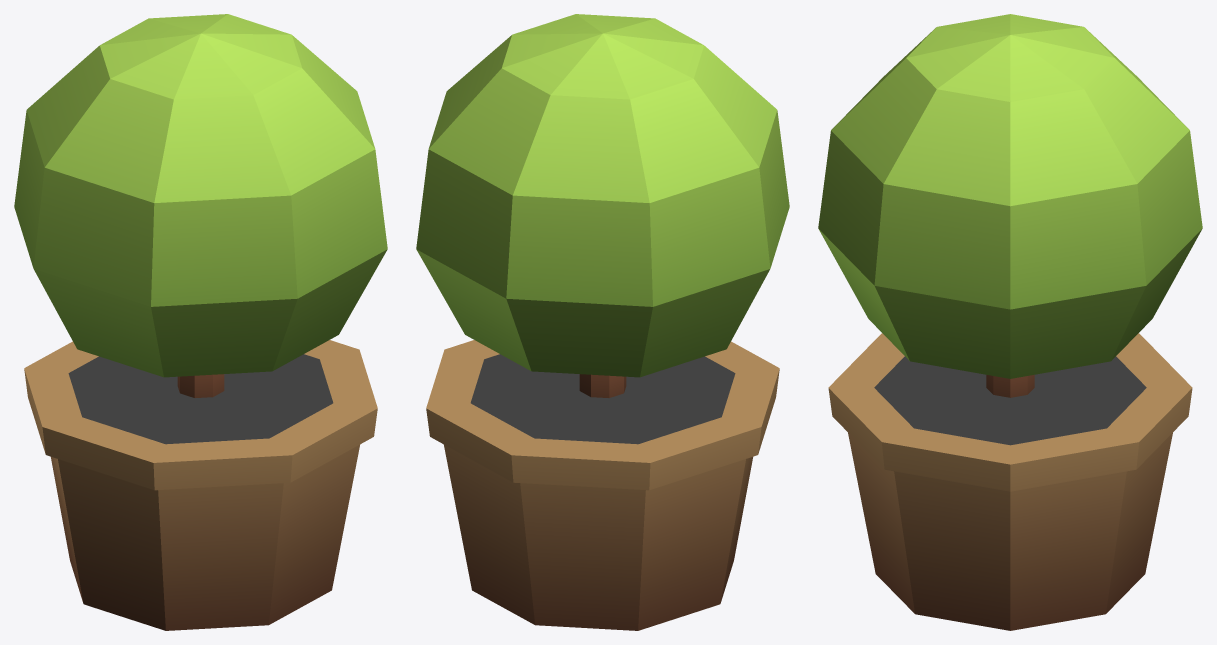
Rendered from potted tree 2.fbx.
3 renders of one model, left to right at view 1: azimuth 30°, elevation 25°; view 2: azimuth 150°, elevation 25°; view 3: azimuth 270°, elevation 25°, orthographic.
Visible parts, largest first — view 1: potted_tree_2; view 2: potted_tree_2; view 3: potted_tree_2.
Part boxes in pixels (left/top/right/bottom): potted_tree_2: left=14, top=14, right=387, bottom=630; potted_tree_2: left=416, top=14, right=789, bottom=630; potted_tree_2: left=818, top=14, right=1202, bottom=630.
Bounding box in the file's own units: 89.18 × 138 × 89.18.
1 material, 1 textured.
